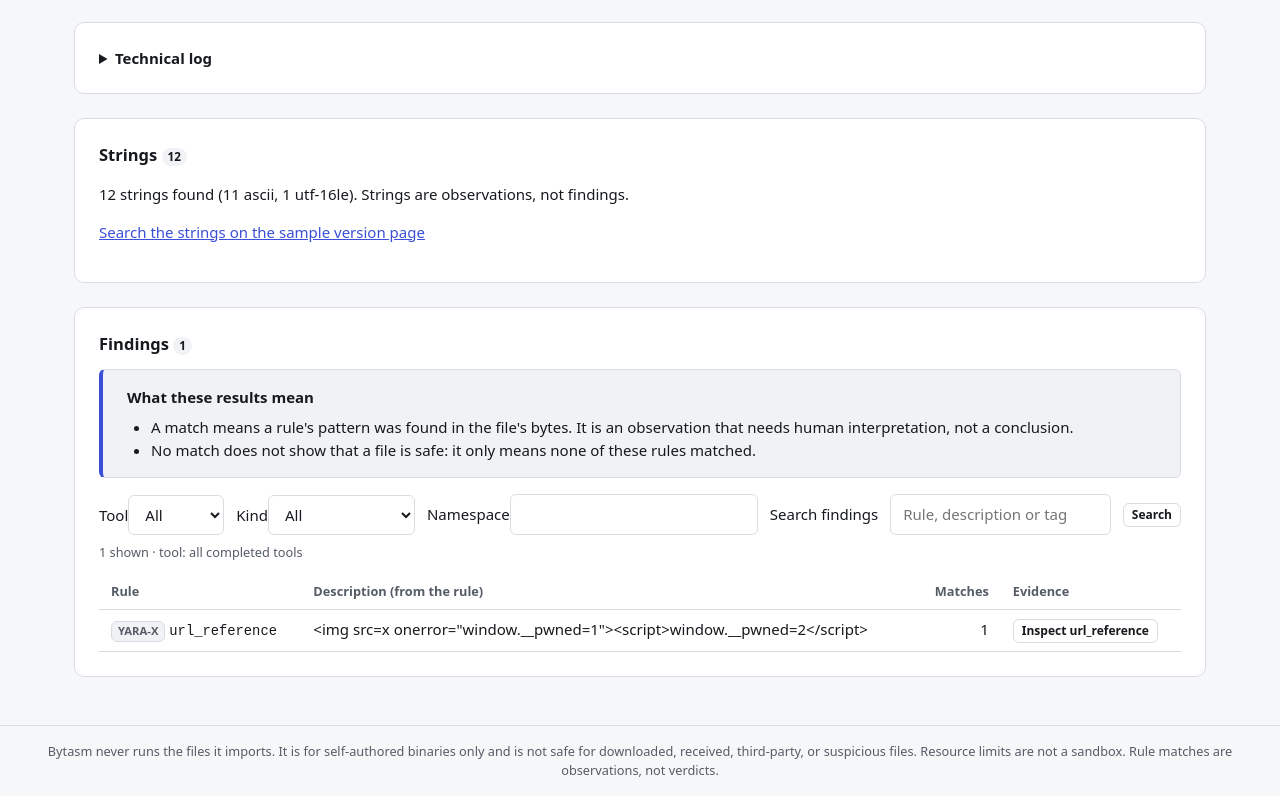
Test: Analysis run page › renders hostile rule metadata, identifiers and excerpts as text
(page scrolled)
Click the button "Inspect url_reference".
click(1085, 631)  # box [1013,619,1158,643]
(page scrolled)
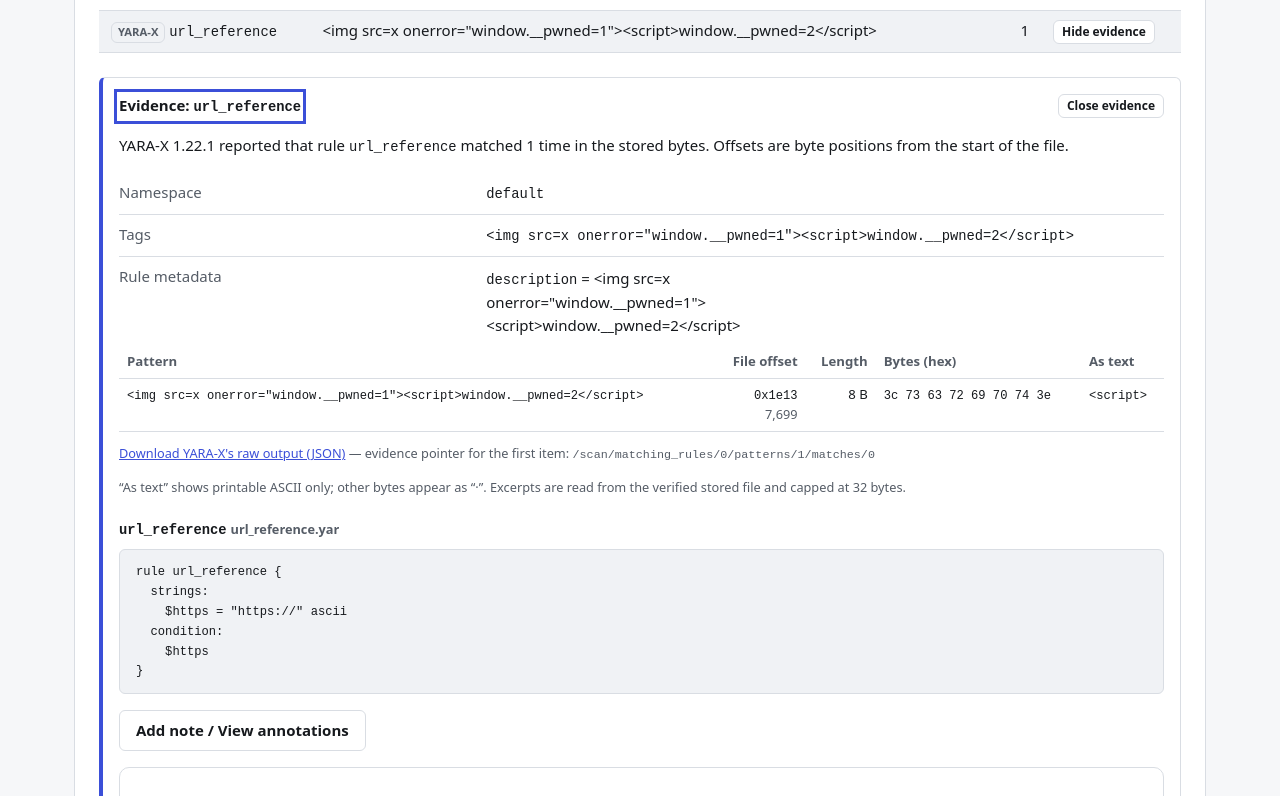
Expected: the text "<script>" is shown, [1089,389,1147,403]
